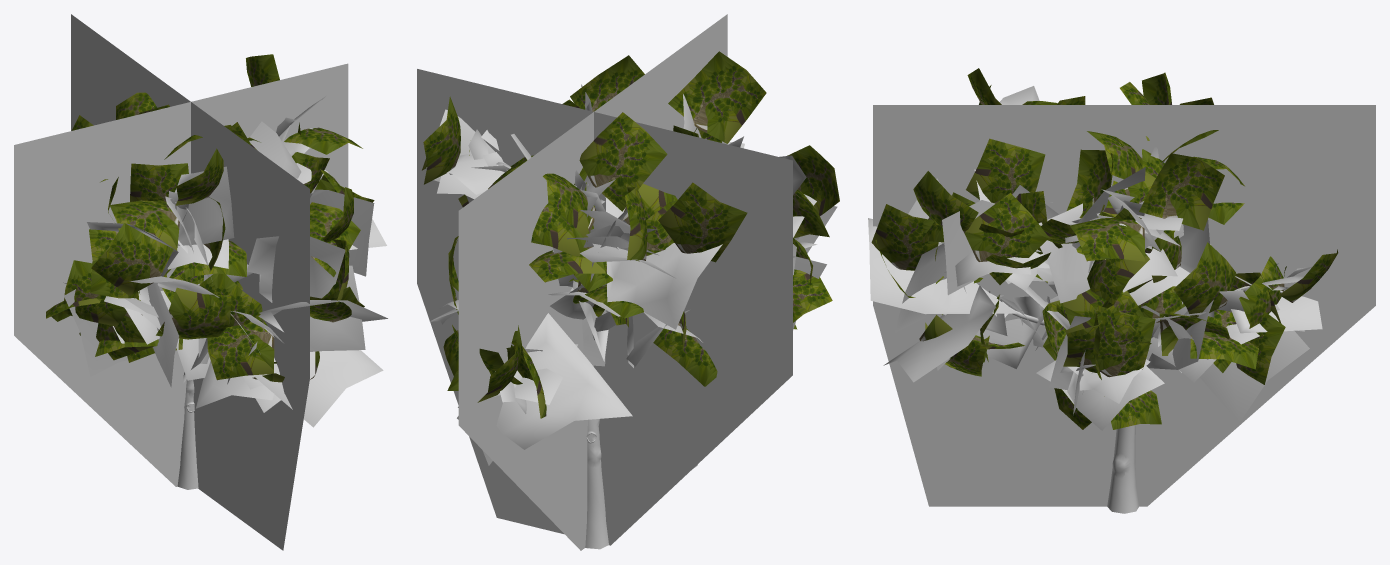
The model's file is Avocado1.fbx.
3 views of the same model, side by side, from view 1: azimuth 30°, elevation 25°; view 2: azimuth 150°, elevation 25°; view 3: azimuth 270°, elevation 25° (orthographic). The views are drawn at different scales.
Visible parts, largest first — view 1: Billboard, LOD0; view 2: Billboard, LOD0; view 3: Billboard, LOD0.
Boxes of the visible parts, box(x1,y1,x2,y2) form: Billboard: box(14, 14, 348, 550); LOD0: box(46, 54, 387, 489); Billboard: box(417, 14, 792, 550); LOD0: box(422, 51, 839, 549); Billboard: box(873, 105, 1375, 506); LOD0: box(868, 68, 1338, 513).
Size of what is drawn, in the model's own units: 405 by 456 by 503.
